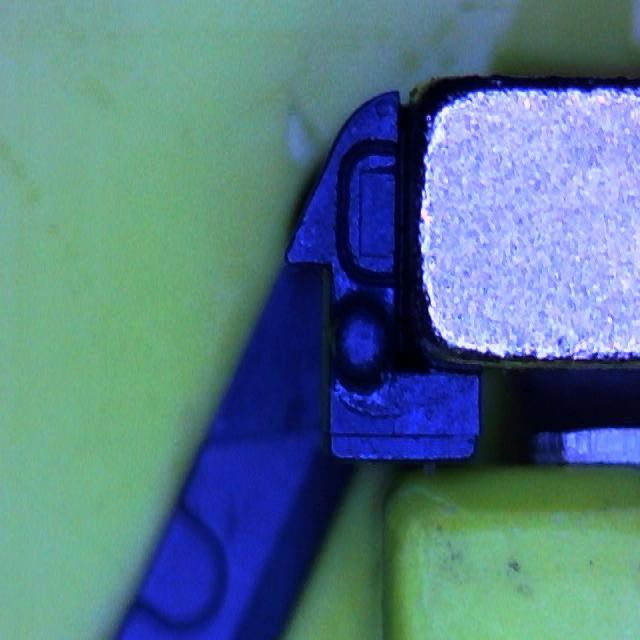lacking: (335, 136, 405, 290)
